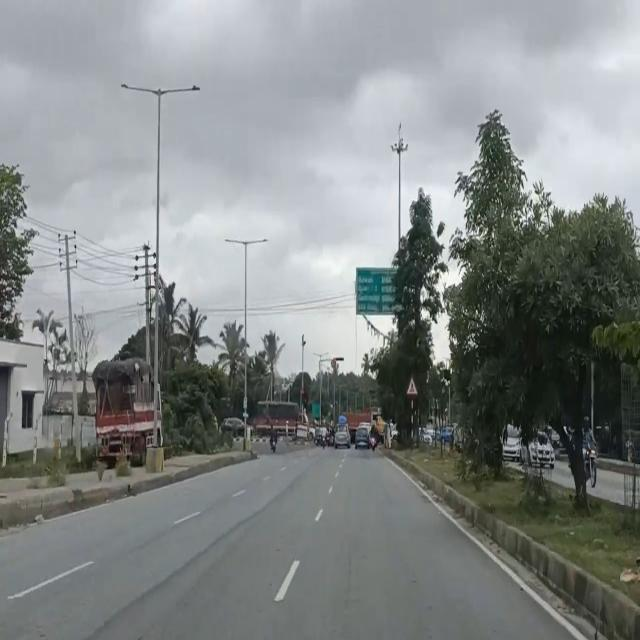bien_cam: (405, 374, 419, 399)
